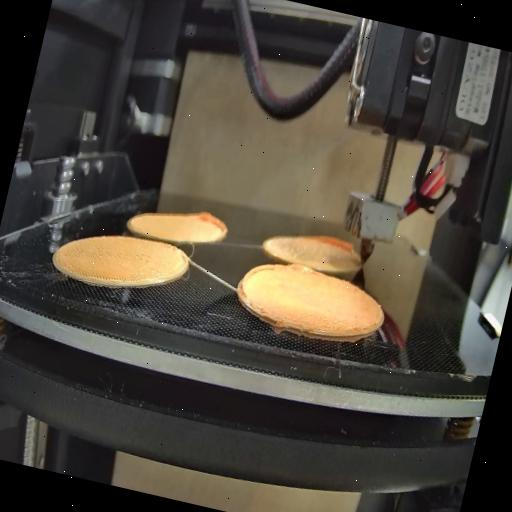over_extrusion: (236, 256, 278, 306), (193, 209, 232, 247), (314, 230, 356, 258), (286, 260, 327, 282)
